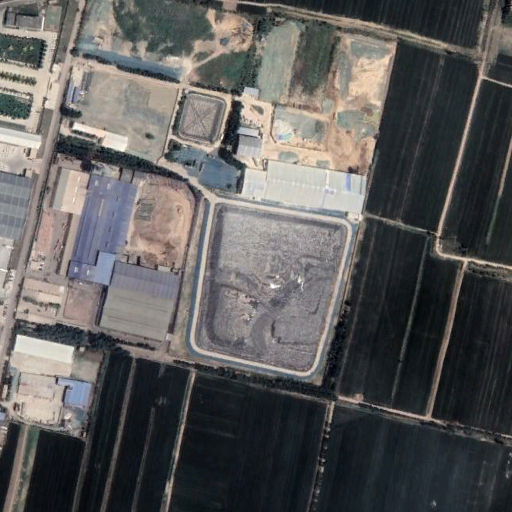lf: (192, 200, 354, 379)
